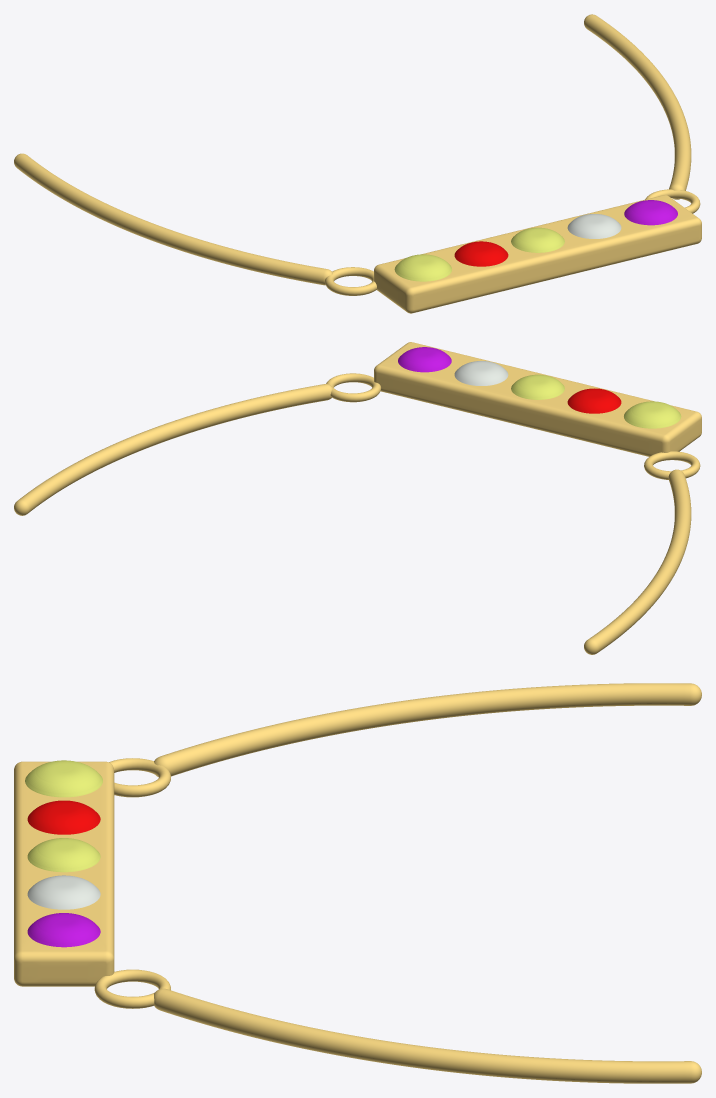
Rendered from Therese bar pendant.glb.
The picture shows the model from 3 angles, top to bottom: view 1: azimuth 30°, elevation 25°; view 2: azimuth 150°, elevation 25°; view 3: azimuth 270°, elevation 25°; orthographic projection. The views are drawn at different scales.
Visible parts, largest first — view 1: Therese YG for 3d model, Therese peridot for 3d model, Therese garnet for 3d model, Therese amethyst for 3d model, Therese peridot for 3d model.001, Therese garnet blank for 3d model; view 2: Therese YG for 3d model, Therese peridot for 3d model, Therese garnet for 3d model, Therese amethyst for 3d model, Therese peridot for 3d model.001, Therese garnet blank for 3d model; view 3: Therese YG for 3d model, Therese peridot for 3d model, Therese garnet blank for 3d model, Therese amethyst for 3d model, Therese garnet for 3d model, Therese peridot for 3d model.001.
Boxes of the visible parts, x1,y1,x2,y2 form: Therese YG for 3d model: (14, 14, 701, 313); Therese peridot for 3d model: (394, 254, 451, 281); Therese garnet for 3d model: (454, 241, 508, 266); Therese amethyst for 3d model: (624, 200, 677, 225); Therese peridot for 3d model.001: (511, 227, 564, 252); Therese garnet blank for 3d model: (567, 214, 621, 238); Therese YG for 3d model: (14, 342, 701, 654); Therese peridot for 3d model: (624, 401, 681, 428); Therese garnet for 3d model: (567, 388, 621, 413); Therese amethyst for 3d model: (398, 347, 451, 372); Therese peridot for 3d model.001: (511, 374, 564, 399); Therese garnet blank for 3d model: (454, 361, 508, 385); Therese YG for 3d model: (14, 683, 701, 1083); Therese peridot for 3d model: (25, 760, 102, 797); Therese garnet blank for 3d model: (27, 875, 100, 909); Therese amethyst for 3d model: (27, 913, 100, 947); Therese garnet for 3d model: (27, 800, 100, 834); Therese peridot for 3d model.001: (27, 838, 100, 872).
Bounding box in the file's own units: 32.58 × 1.94 × 24.44.
